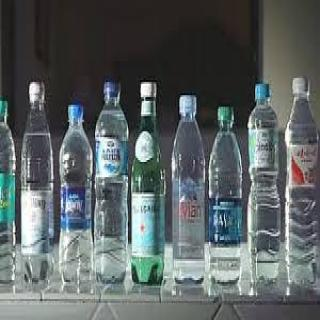Plastic-bottle: (247, 81, 284, 298), (284, 77, 320, 292), (95, 77, 131, 287), (22, 79, 56, 296), (172, 93, 208, 293), (59, 102, 94, 290), (209, 104, 243, 289), (2, 98, 19, 291)
